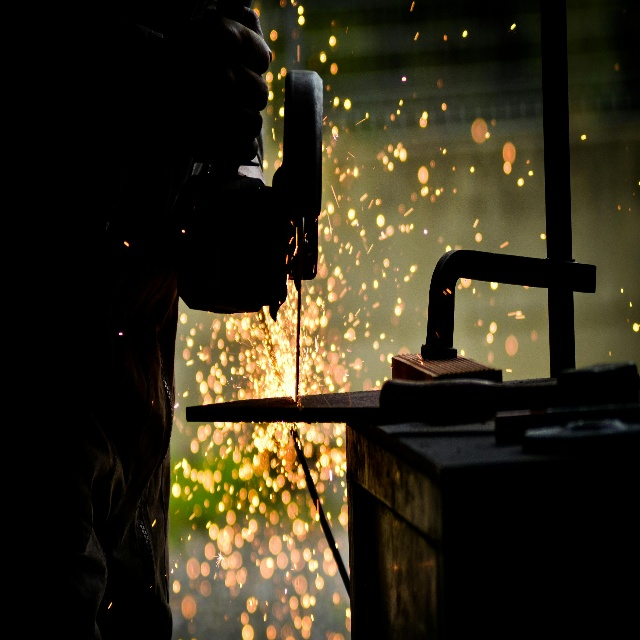Sin_guantes: (225, 2, 271, 169)
